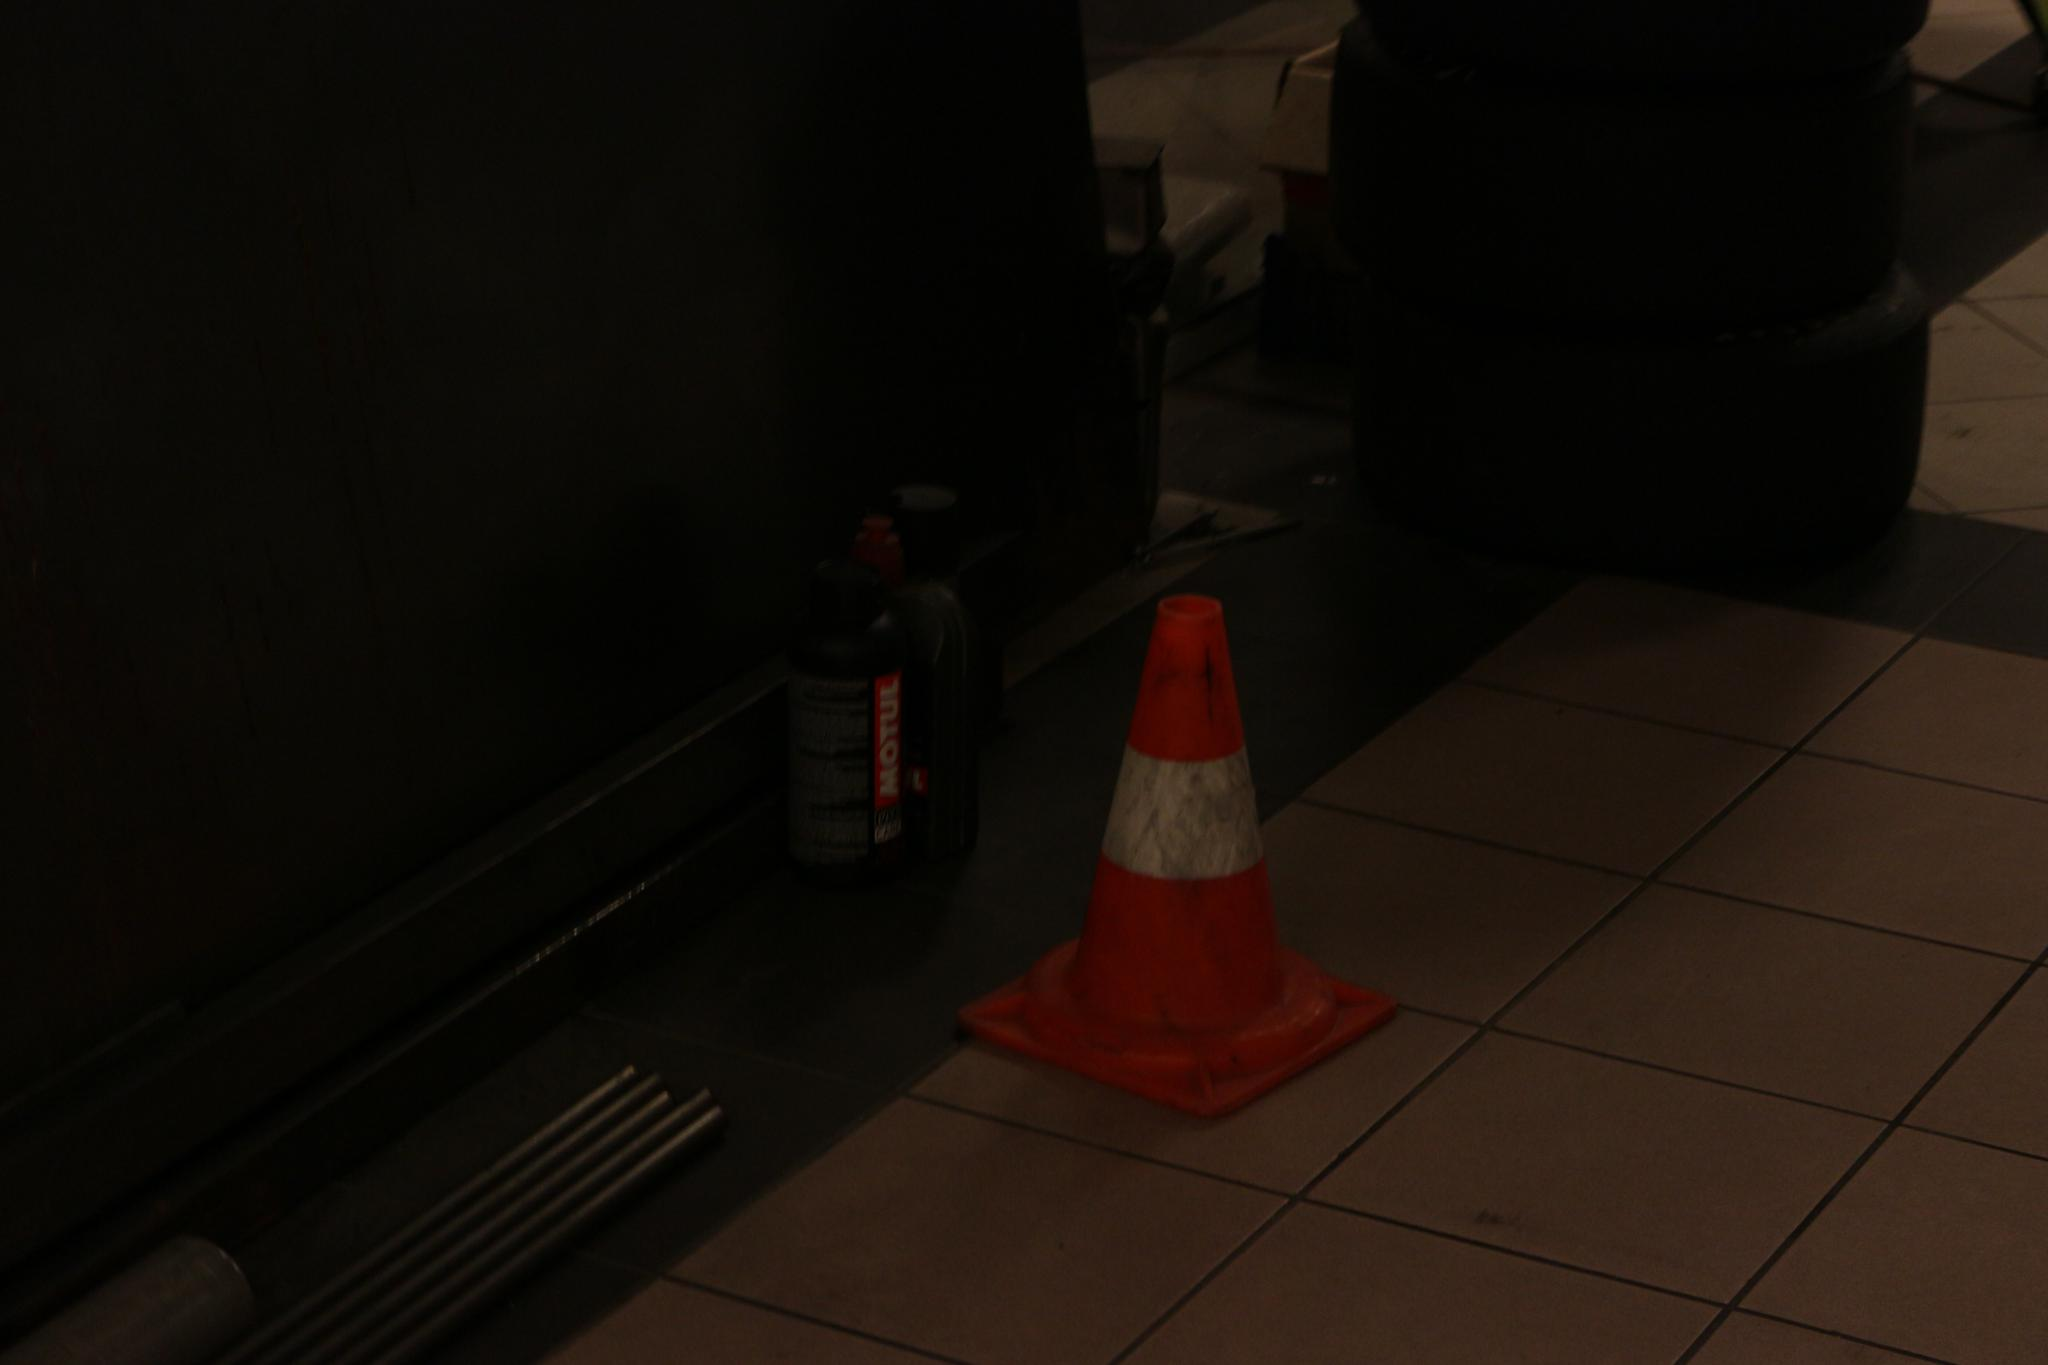Orange_Cone: (988, 583, 1366, 1089)
